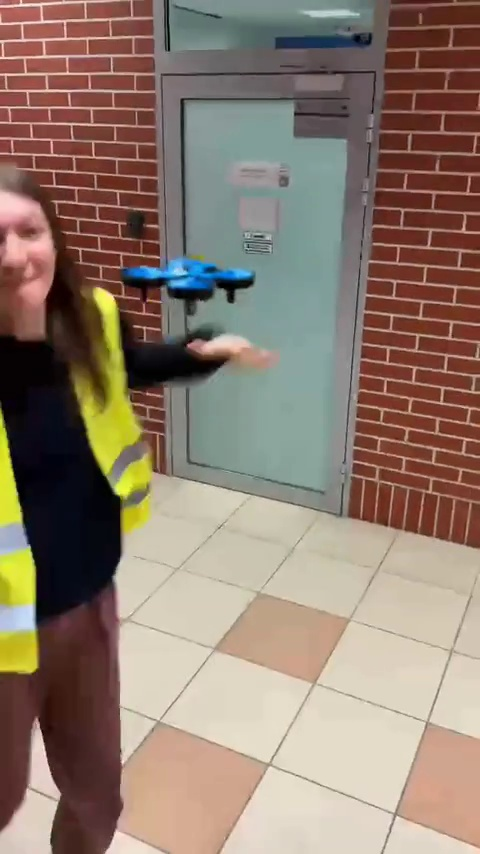drone: (120, 249, 255, 316)
vest: (0, 153, 231, 844)
